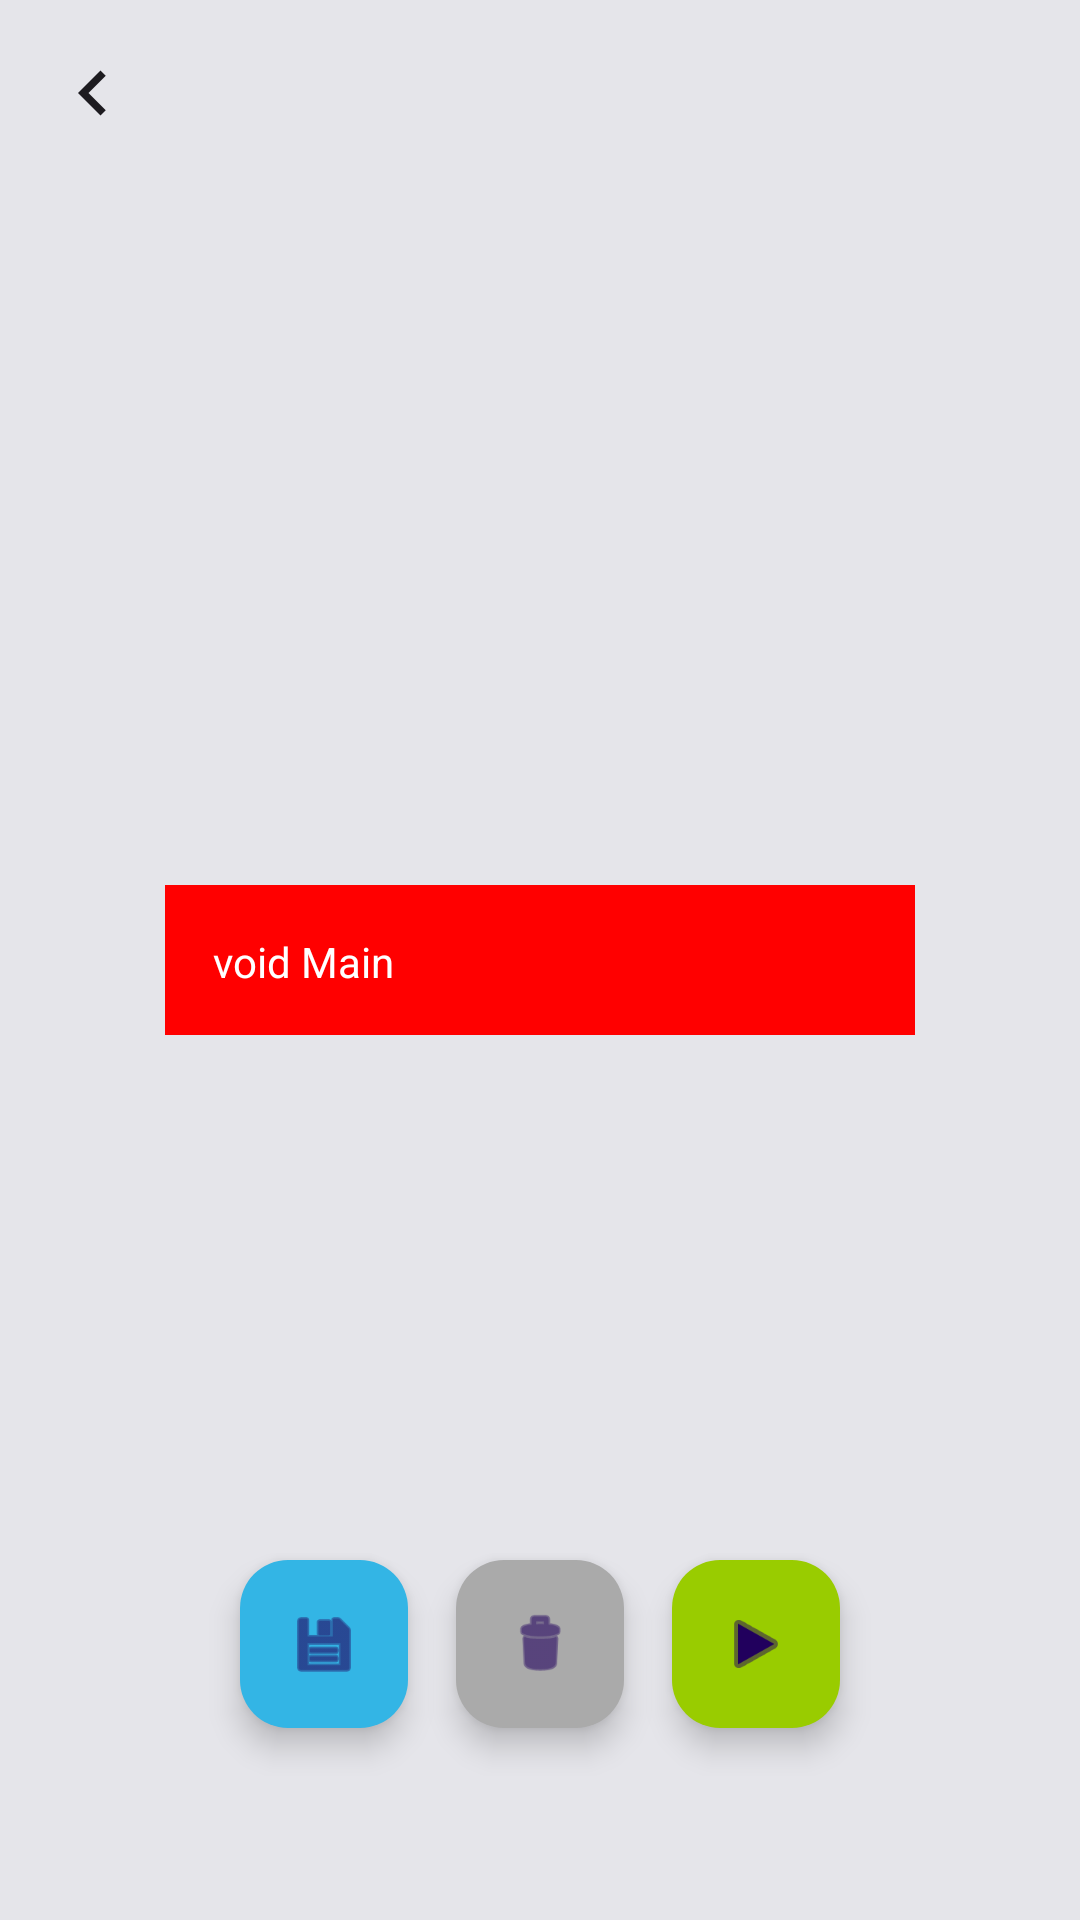

Point at icon controls on the screen. Image size 1080x1920, points as (x,y).
back: (92,93)
delete: (540,1644)
play: (756,1644)
save: (324,1644)
